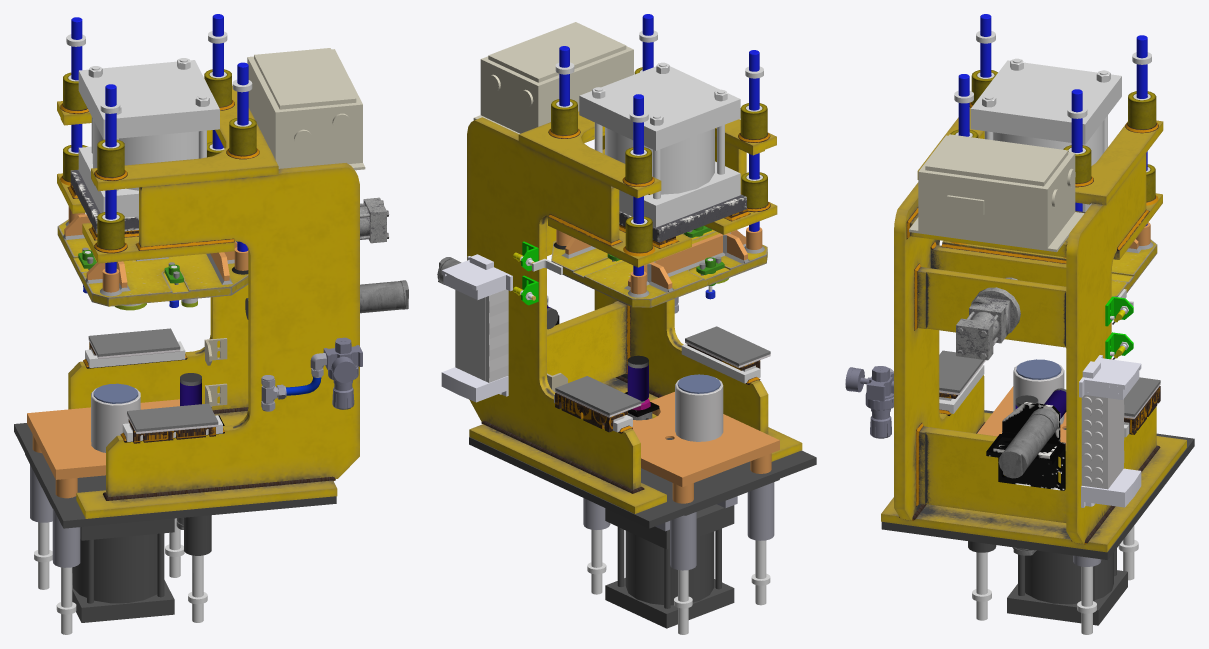
3 renders of one model, left to right at view 1: azimuth 30°, elevation 25°; view 2: azimuth 150°, elevation 25°; view 3: azimuth 270°, elevation 25°, orthographic. The views are drawn at different scales.
Visible parts, largest first — view 1: P_06_621_03_b_1_005, E3AX004, Control Box4, E3AW-5A01F-D0000AT02c001, P_06_621_03_b_2_005, P-06-621-154, P_06_621_04_a_1_005, P_06_621_03_a_1_005, P-06-621-05-a_002, P-06-621-06-b_002, P-06-621-150, Welds_011 (+23 smaller); view 2: P_06_621_03_b_2_005, E3AX004, Control Box4, E3AW-5A01F-D0000AT02c001, P-06-621-154, P_06_621_03_b_1_005, P-06-621-06-b_002, P-06-621-05-a_002, P_06_621_03_d_1_005, P_06_621_03_a_1_005, P_06_621_04_a_1_005, P-06-621-150 (+27 smaller); view 3: Control Box4, P_06_621_03_b_2_005, P_06_621_03_b_1_005, E3AX004, P_06_621_03_d_1_005, P_06_621_03_a_1_005, P_06_621_03_h_1_005, E3AW-5A01F-D0000AT02c001, P_06_621_04_a_1_005, FRP01S016, P-06-621-144, P_06_621_03_h_2_005 (+25 smaller).
Boxes of the visible parts, bbox=[...] form: P_06_621_03_b_1_005: bbox=[106, 163, 359, 496]; E3AX004: bbox=[78, 58, 219, 217]; Control Box4: bbox=[247, 48, 365, 170]; E3AW-5A01F-D0000AT02c001: bbox=[72, 518, 174, 622]; P_06_621_03_b_2_005: bbox=[68, 130, 248, 410]; P-06-621-154: bbox=[57, 206, 248, 306]; P_06_621_04_a_1_005: bbox=[57, 85, 278, 191]; P_06_621_03_a_1_005: bbox=[76, 411, 337, 518]; P-06-621-05-a_002: bbox=[14, 423, 336, 528]; P-06-621-06-b_002: bbox=[27, 399, 179, 479]; P-06-621-150: bbox=[71, 14, 248, 273]; Welds_011: bbox=[60, 100, 335, 500]; P_06_621_03_b_2_005: bbox=[467, 117, 640, 489]; E3AX004: bbox=[579, 62, 740, 227]; Control Box4: bbox=[473, 22, 633, 133]; E3AW-5A01F-D0000AT02c001: bbox=[605, 504, 734, 628]; P-06-621-154: bbox=[551, 227, 767, 307]; P_06_621_03_b_1_005: bbox=[594, 135, 768, 434]; P-06-621-06-b_002: bbox=[632, 392, 779, 487]; P-06-621-05-a_002: bbox=[469, 437, 816, 528]; P_06_621_03_d_1_005: bbox=[547, 301, 626, 382]; P_06_621_03_a_1_005: bbox=[469, 377, 802, 513]; P_06_621_04_a_1_005: bbox=[518, 111, 776, 198]; P-06-621-150: bbox=[559, 14, 759, 275]; Control Box4: bbox=[909, 134, 1084, 252]; P_06_621_03_b_2_005: bbox=[1066, 153, 1156, 543]; P_06_621_03_b_1_005: bbox=[894, 182, 984, 520]; E3AX004: bbox=[970, 58, 1121, 211]; P_06_621_03_d_1_005: bbox=[919, 426, 1066, 522]; P_06_621_03_a_1_005: bbox=[881, 412, 1186, 552]; P_06_621_03_h_1_005: bbox=[917, 267, 1066, 347]; E3AW-5A01F-D0000AT02c001: bbox=[1007, 548, 1127, 625]; P_06_621_04_a_1_005: bbox=[917, 107, 1163, 205]; FRP01S016: bbox=[956, 277, 1020, 360]; P-06-621-144: bbox=[986, 401, 1065, 490]; P_06_621_03_h_2_005: bbox=[930, 245, 1066, 286].
Bounding box in the file's own units: 37.95 × 54.66 × 30.84.
